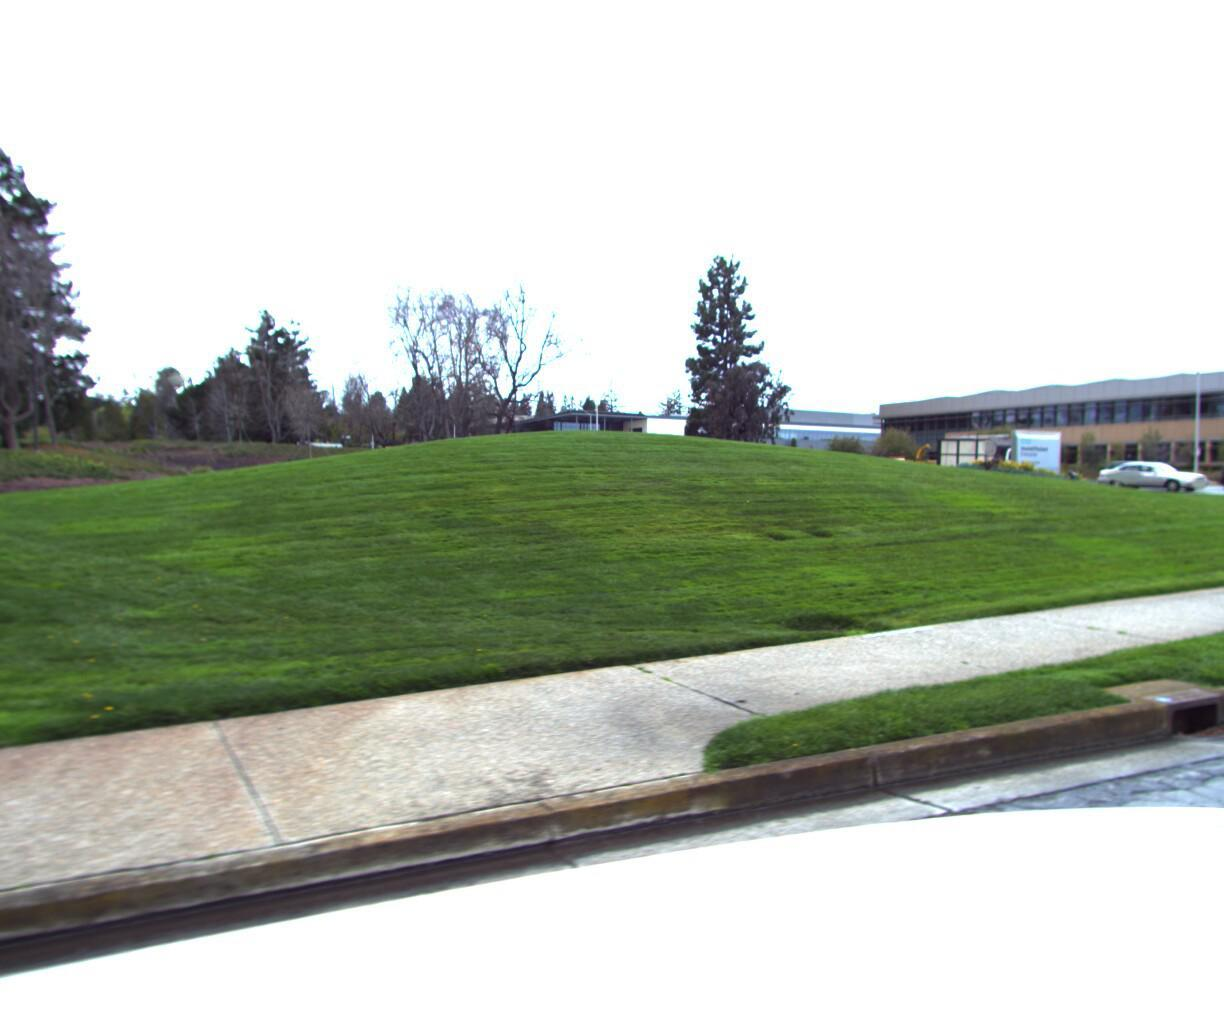car: (1088, 457, 1209, 488), (1205, 453, 1224, 488)
other_vehicle: (883, 442, 946, 482)
truck: (928, 427, 1057, 483)
